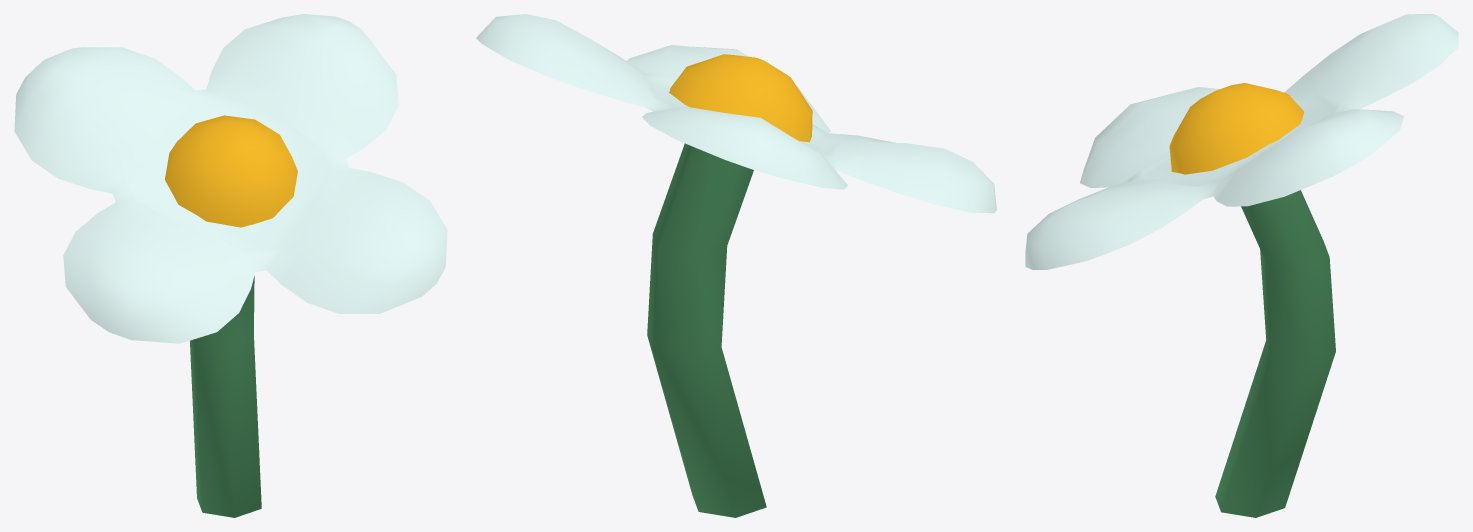
Rendered from village_town_daisy.glb.
3 views of the same model, side by side, from view 1: azimuth 30°, elevation 25°; view 2: azimuth 150°, elevation 25°; view 3: azimuth 270°, elevation 25° (orthographic). The views are drawn at different scales.
Parts seen in each view (by area): view 1: Daisy.001_Material.005_0; view 2: Daisy.001_Material.005_0; view 3: Daisy.001_Material.005_0.
Boxes of the visible parts, left/top/right/bottom form: Daisy.001_Material.005_0: left=14, top=14, right=447, bottom=517; Daisy.001_Material.005_0: left=476, top=14, right=996, bottom=517; Daisy.001_Material.005_0: left=1025, top=14, right=1458, bottom=517.
Bounding box in the file's own units: 0.4921 × 0.5299 × 0.4634.
Materials: 1 (1 with a texture image).
